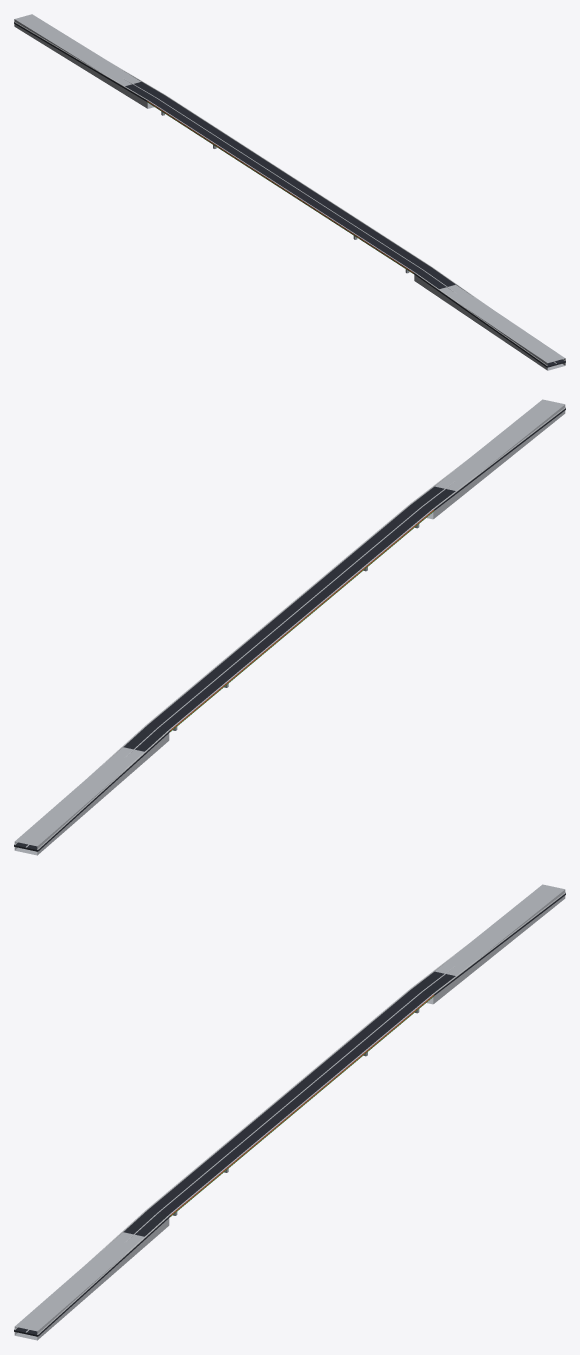
File: flyover-ska-lod2.glb
3 views of the same model, one above another, from view 1: azimuth 30°, elevation 25°; view 2: azimuth 150°, elevation 25°; view 3: azimuth 330°, elevation 25° (orthographic). The views are drawn at different scales.
Parts seen in each view (by area): view 1: flyover-ska_LOD2; view 2: flyover-ska_LOD2; view 3: flyover-ska_LOD2.
Boxes of the visible parts, x1=… form: flyover-ska_LOD2: x1=14, y1=14, x2=565, y2=370; flyover-ska_LOD2: x1=14, y1=399, x2=565, y2=855; flyover-ska_LOD2: x1=14, y1=884, x2=565, y2=1340.
Size of the model in its own units: 56.91 by 10.29 by 720.
